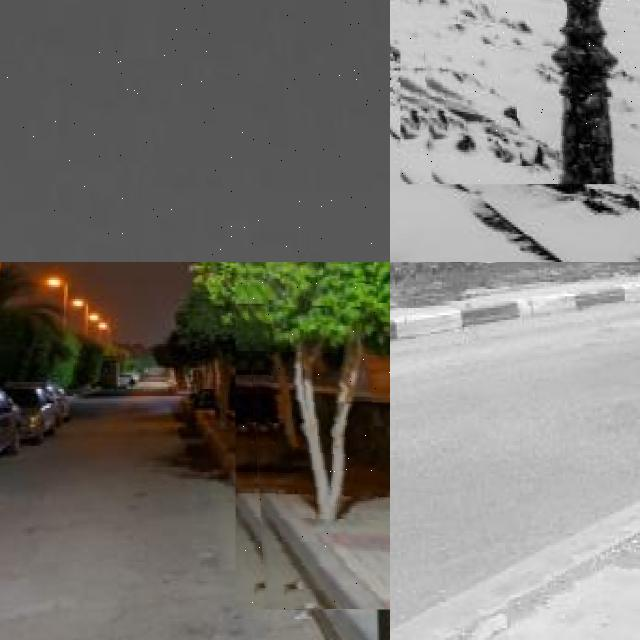street light: (0, 0, 390, 262), (235, 262, 390, 609), (400, 0, 640, 184), (44, 278, 70, 332), (71, 301, 90, 342), (90, 313, 103, 348), (100, 323, 112, 346)
